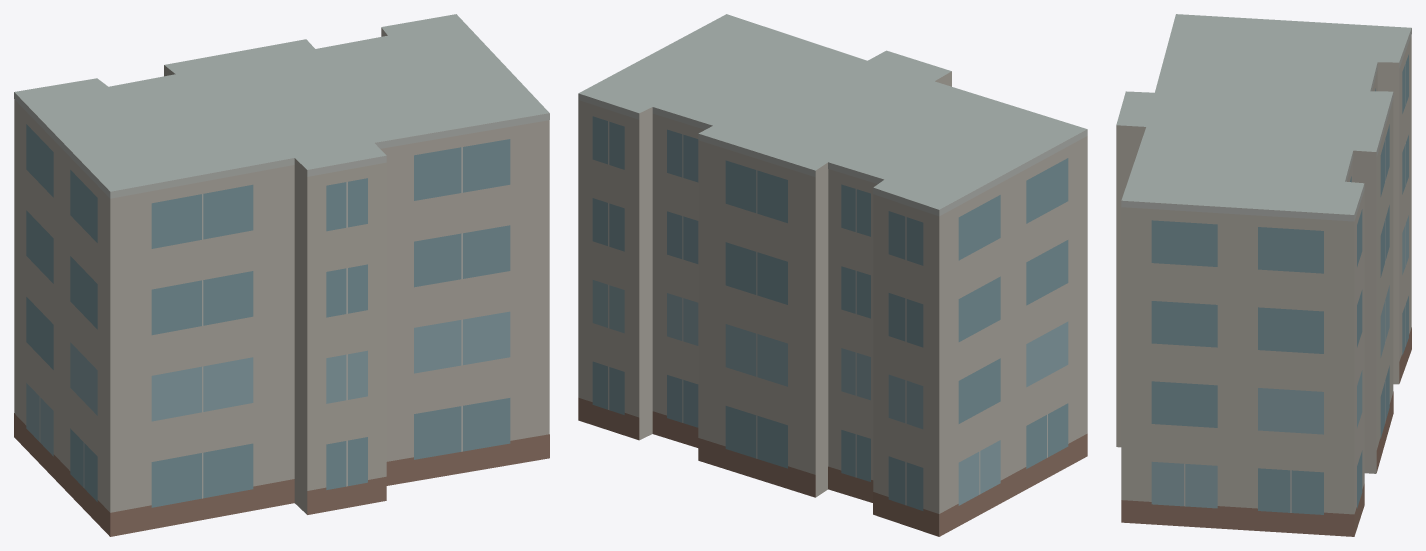
The model's file is survey-upis-32871235.glb.
The picture shows the model from 3 angles, left to right: view 1: azimuth 30°, elevation 25°; view 2: azimuth 150°, elevation 25°; view 3: azimuth 270°, elevation 25°; orthographic projection. The views are drawn at different scales.
Parts seen in each view (by area): view 1: survey-upis-32871235.tmp; view 2: survey-upis-32871235.tmp; view 3: survey-upis-32871235.tmp.
Part boxes in pixels (<box>): survey-upis-32871235.tmp: <box>14,14,549,536</box>; survey-upis-32871235.tmp: <box>578,14,1087,536</box>; survey-upis-32871235.tmp: <box>1116,14,1411,536</box>.
Bounding box in the file's own units: 16.22 × 12.1 × 10.08.
